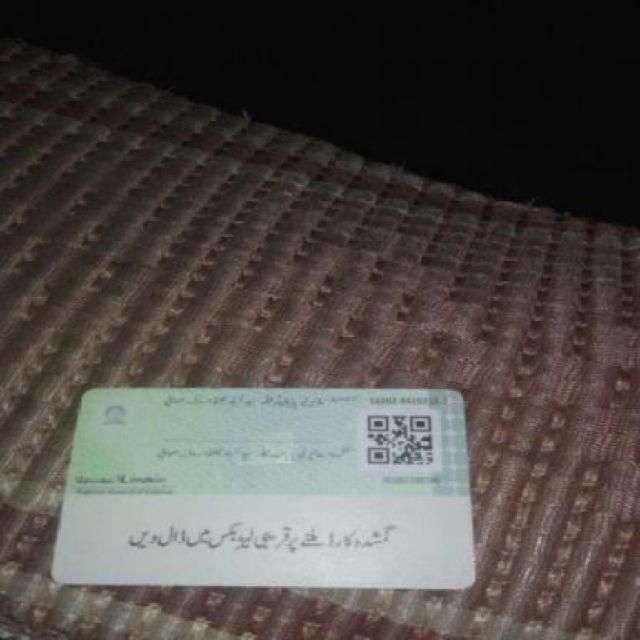Back: (54, 385, 477, 592)
